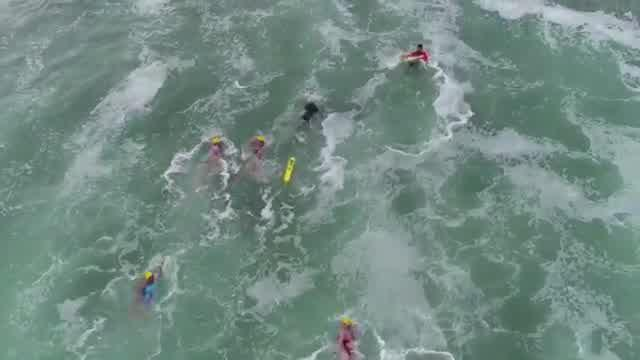human: (332, 320, 354, 356), (404, 40, 430, 68), (140, 272, 162, 301)
